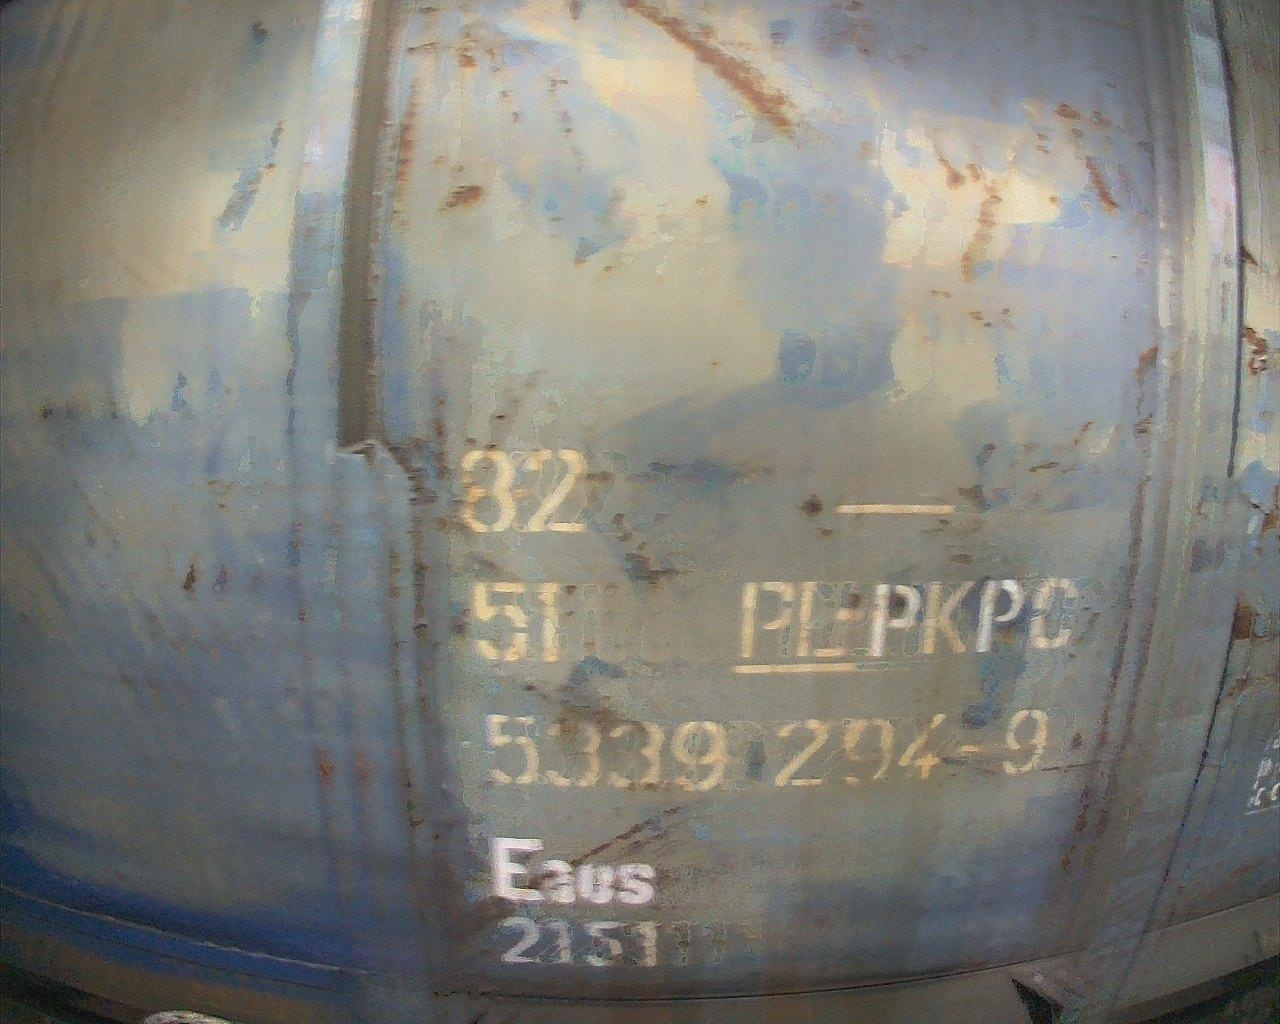UIC: (443, 432, 1088, 980)
